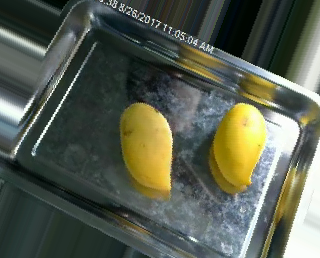Mango: (207, 93, 274, 198), (108, 96, 177, 196)
